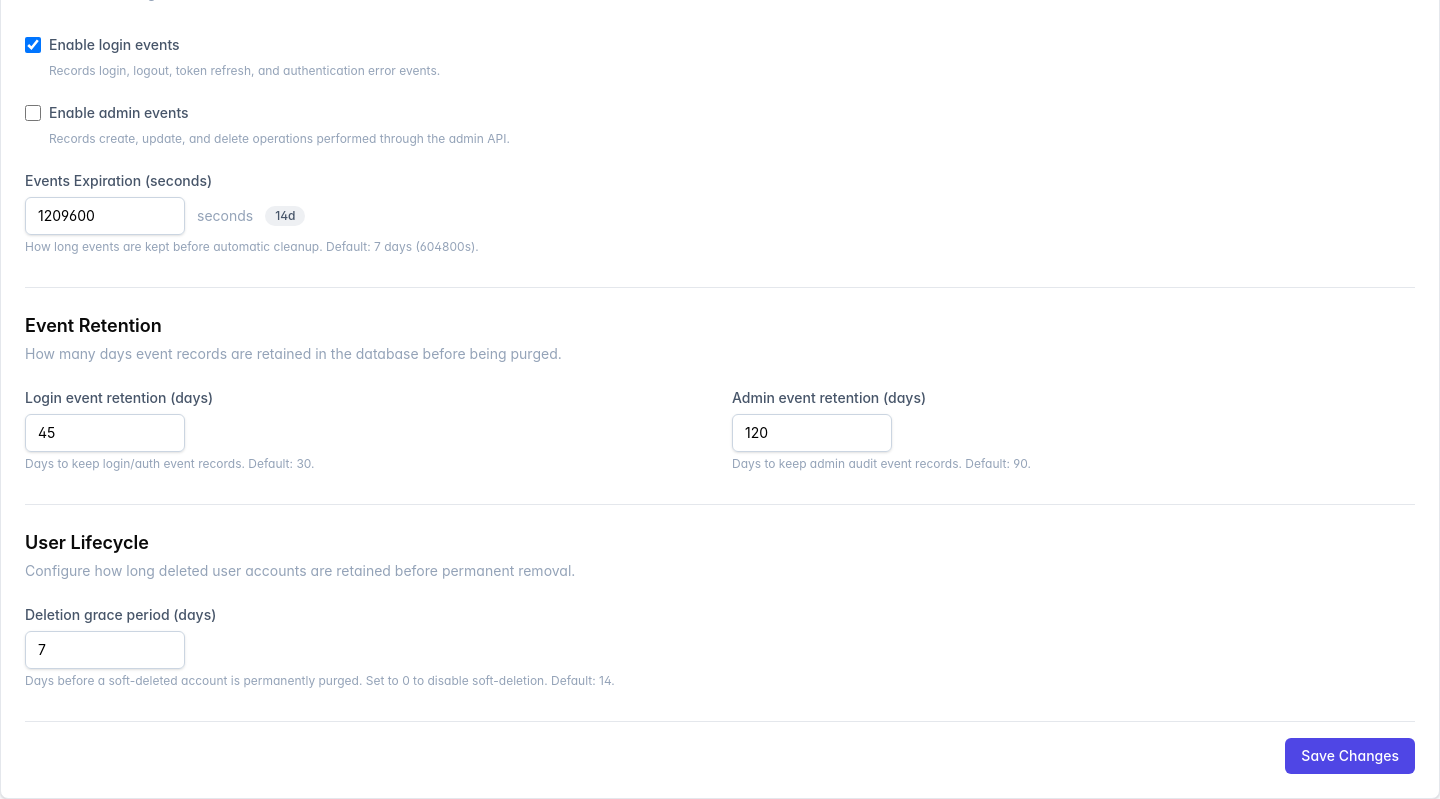
EventSettingsForm › submits only the event fields and shows a success banner
The width and height of the screenshot is (1440, 799).
(page scrolled)
Click the button "Save Changes" at (1350, 756), box [1285,738,1415,774]
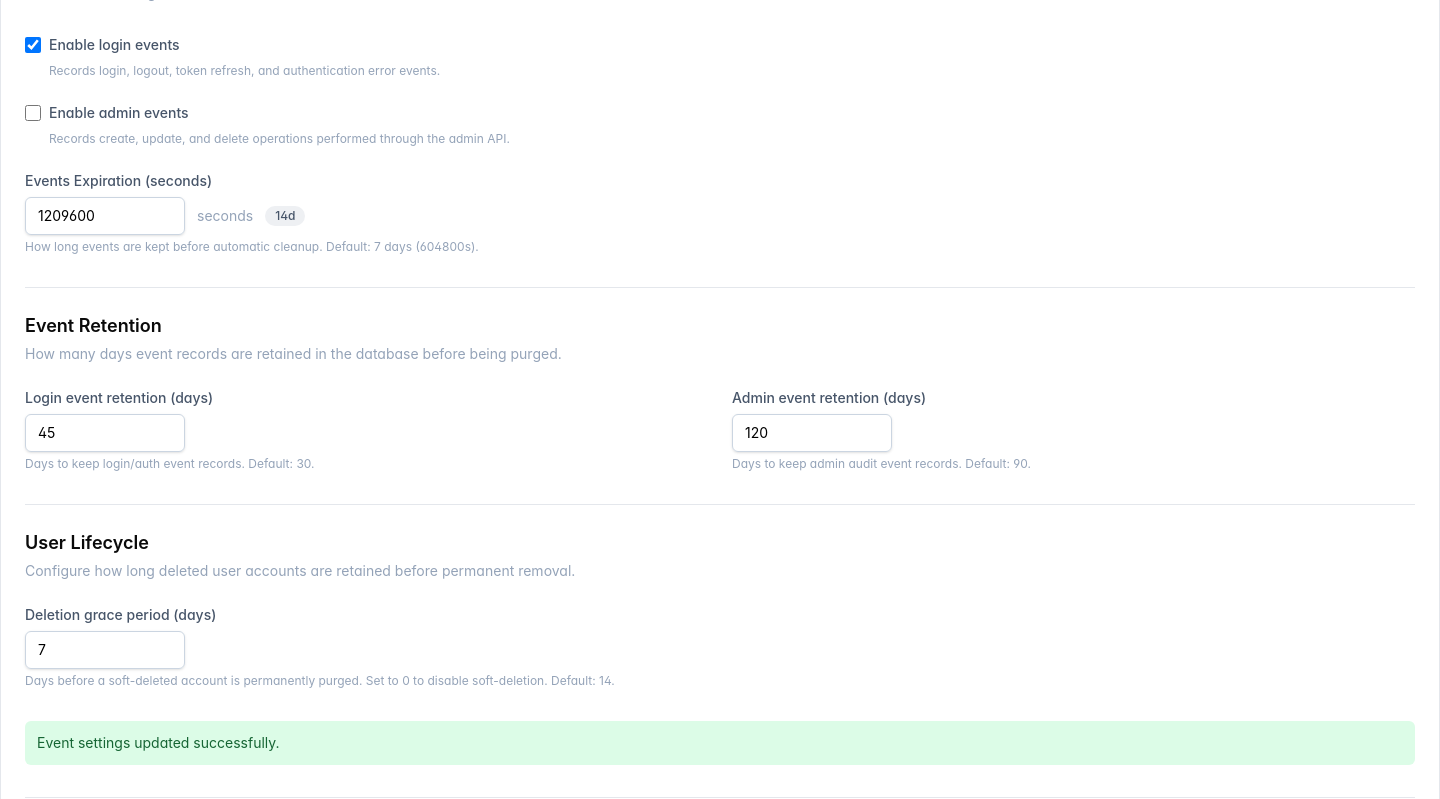
Expected: the text "Event settings updated successfully." is shown, [25,721,1415,765]
